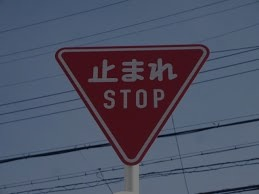Regulatory_sign_triangle: (46, 36, 217, 173)
